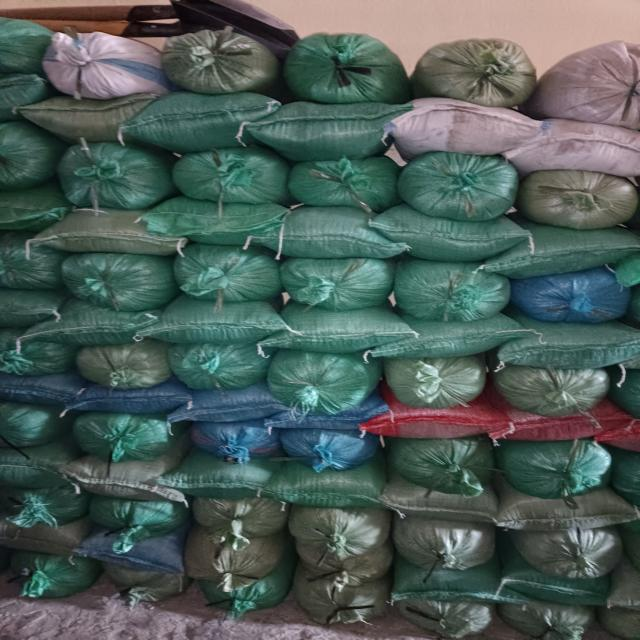Bistay sand: (495, 322, 640, 368), (55, 150, 174, 206), (401, 155, 514, 211), (273, 99, 382, 156), (526, 174, 638, 229), (288, 510, 390, 569), (139, 93, 269, 139), (54, 32, 151, 93), (169, 27, 266, 88), (293, 37, 390, 98), (428, 39, 525, 100), (544, 54, 640, 115), (65, 257, 180, 306), (387, 439, 494, 490), (503, 444, 610, 495), (386, 107, 518, 148), (172, 152, 284, 199), (401, 514, 495, 570), (507, 230, 638, 270), (395, 219, 526, 259), (262, 212, 393, 252), (149, 199, 280, 239), (46, 210, 177, 250), (519, 526, 619, 578), (282, 157, 395, 203), (503, 364, 604, 415), (528, 122, 635, 170), (181, 253, 290, 300), (280, 257, 389, 304), (395, 269, 504, 316), (521, 275, 630, 322), (267, 357, 368, 407), (387, 355, 488, 405), (85, 489, 184, 540), (189, 537, 284, 587), (283, 314, 413, 348), (21, 98, 143, 134), (194, 488, 285, 535), (78, 413, 169, 459), (160, 307, 279, 340), (34, 307, 153, 340), (499, 498, 637, 525), (80, 342, 162, 387), (182, 347, 264, 392), (513, 414, 636, 444), (377, 409, 500, 439), (157, 463, 276, 494), (66, 461, 185, 492), (266, 404, 388, 434), (169, 391, 291, 421), (64, 388, 186, 418), (395, 596, 495, 632), (384, 487, 503, 517), (270, 471, 389, 501), (101, 564, 200, 600), (388, 322, 518, 349), (289, 582, 389, 617), (2, 561, 101, 596), (192, 573, 291, 608), (510, 604, 609, 639), (182, 425, 276, 461), (282, 425, 376, 461), (504, 573, 606, 606), (89, 540, 188, 574), (397, 571, 499, 603), (297, 554, 398, 586), (1, 520, 87, 554), (10, 479, 85, 517), (1, 450, 67, 490), (1, 132, 53, 180), (1, 25, 54, 70), (1, 342, 63, 378), (1, 410, 66, 444), (1, 244, 47, 292), (4, 377, 77, 404), (1, 77, 50, 115), (1, 194, 51, 227), (612, 575, 640, 609), (612, 607, 640, 640)
